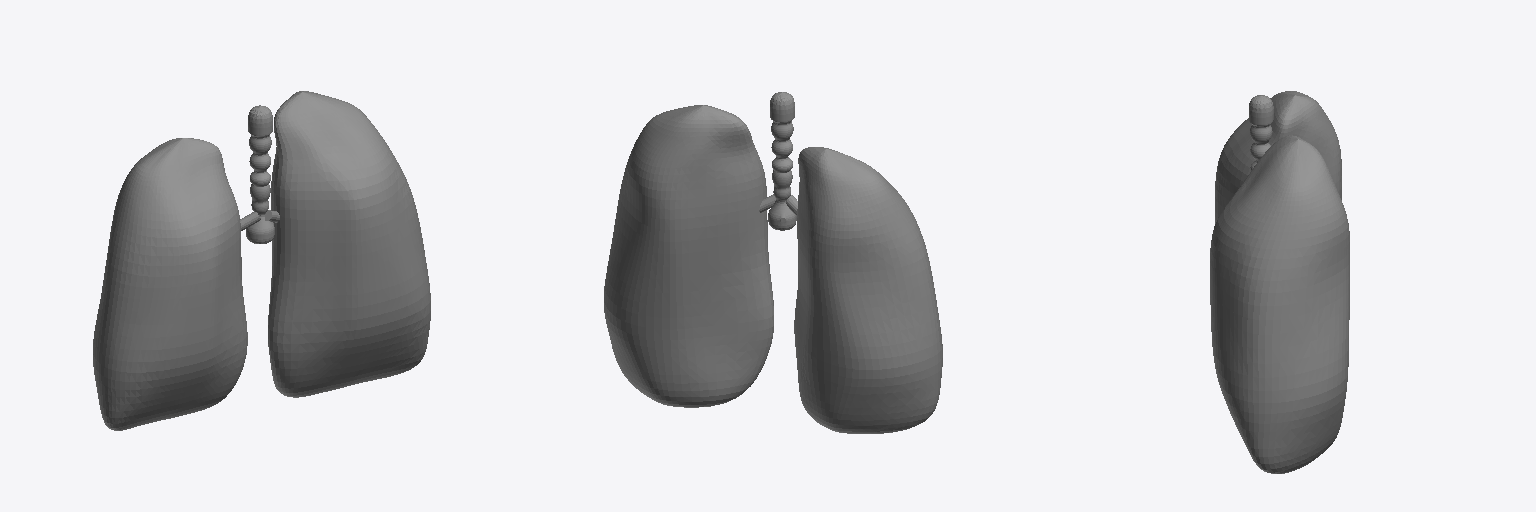
File: pulmones.obj
The picture shows the model from 3 angles: view 1: azimuth 30°, elevation 25°; view 2: azimuth 150°, elevation 25°; view 3: azimuth 270°, elevation 25°; orthographic projection.
Parts seen in each view (by area): view 1: Sphere_002, Sphere_001, Cylinder; view 2: Sphere_002, Sphere_001, Cylinder; view 3: Sphere_002, Sphere_001, Cylinder.
Boxes of the visible parts, x1,y1,x2,y2 form: Sphere_002: [268, 91, 430, 397]; Sphere_001: [93, 138, 247, 430]; Cylinder: [246, 105, 274, 243]; Sphere_002: [604, 105, 773, 407]; Sphere_001: [794, 147, 942, 433]; Cylinder: [768, 92, 796, 230]; Sphere_002: [1210, 135, 1349, 473]; Sphere_001: [1215, 91, 1341, 223]; Cylinder: [1249, 95, 1273, 170].
Bounding box in the file's own units: 7.82 × 7.27 × 2.93.